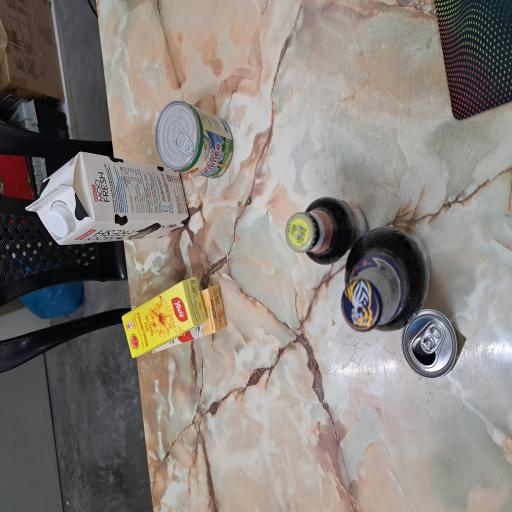can: (250, 207, 309, 311)
drink carton: (201, 34, 271, 254), (117, 162, 177, 276), (118, 201, 172, 303)
glass bottle: (185, 380, 237, 491), (135, 453, 215, 512)
plastic bottle cap: (205, 62, 230, 98)
pop tab: (267, 232, 288, 258)
